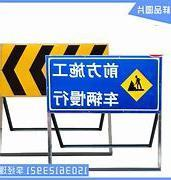sign: (46, 55, 162, 112)
